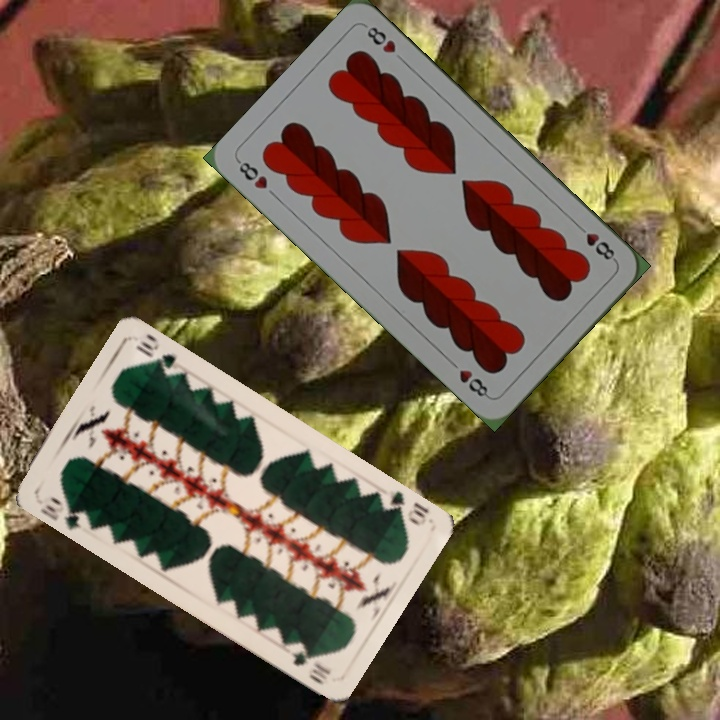G10: (376, 487, 432, 529), (36, 492, 91, 533)
H8: (233, 156, 281, 202), (572, 220, 619, 265)
